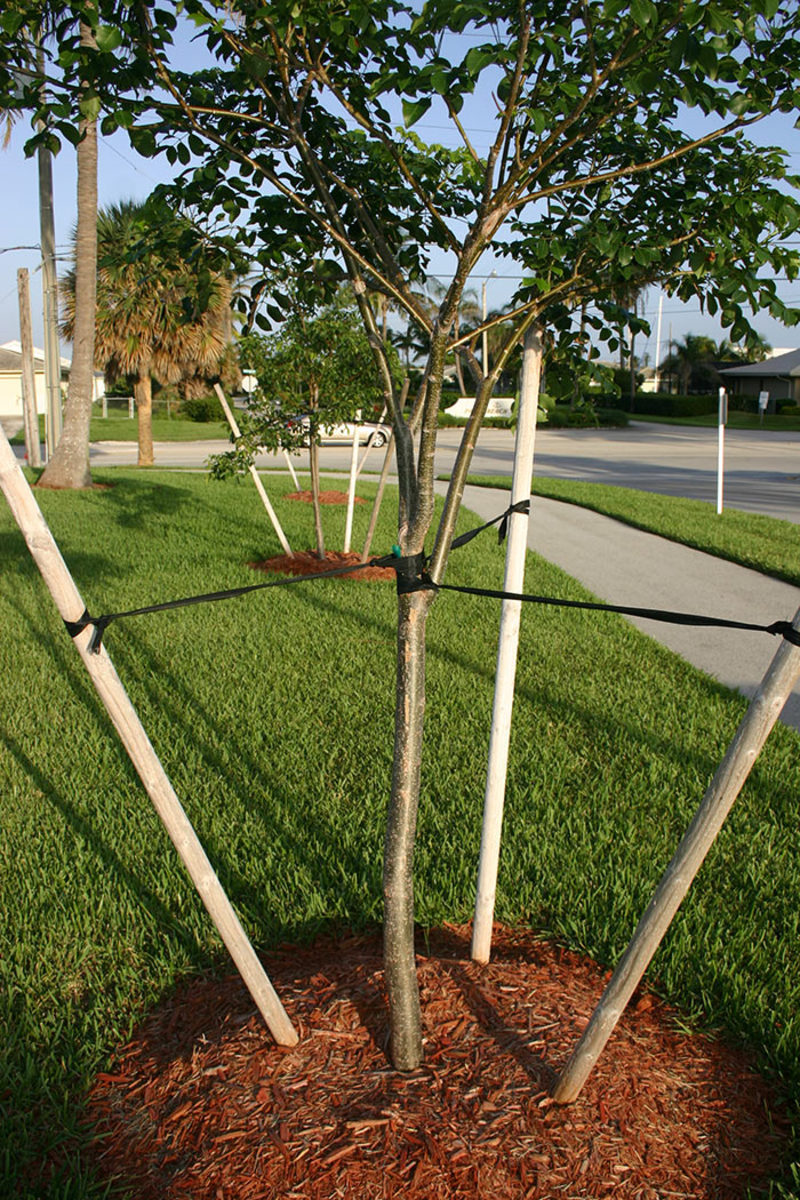dirt: (105, 902, 772, 1180)
grass: (15, 467, 791, 996)
tree: (377, 263, 490, 1079), (38, 122, 102, 488), (304, 392, 325, 559), (132, 360, 155, 469)
